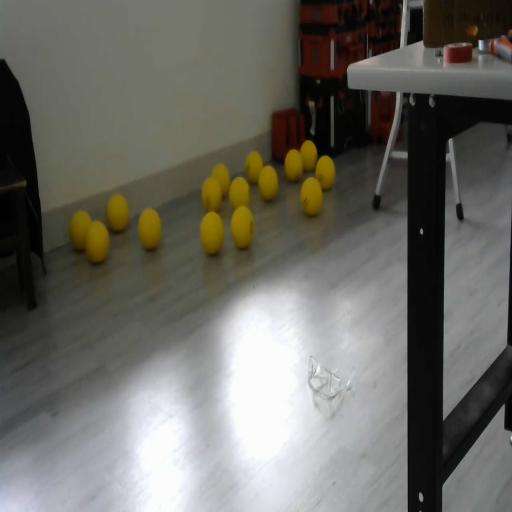FUEL: (199, 209, 225, 255), (84, 219, 110, 264), (230, 203, 255, 249), (137, 206, 162, 250), (106, 194, 130, 232), (300, 176, 322, 216), (315, 153, 336, 190), (228, 176, 250, 210), (258, 165, 278, 201), (211, 162, 230, 198), (244, 150, 264, 184), (299, 139, 318, 172), (284, 149, 303, 182)
